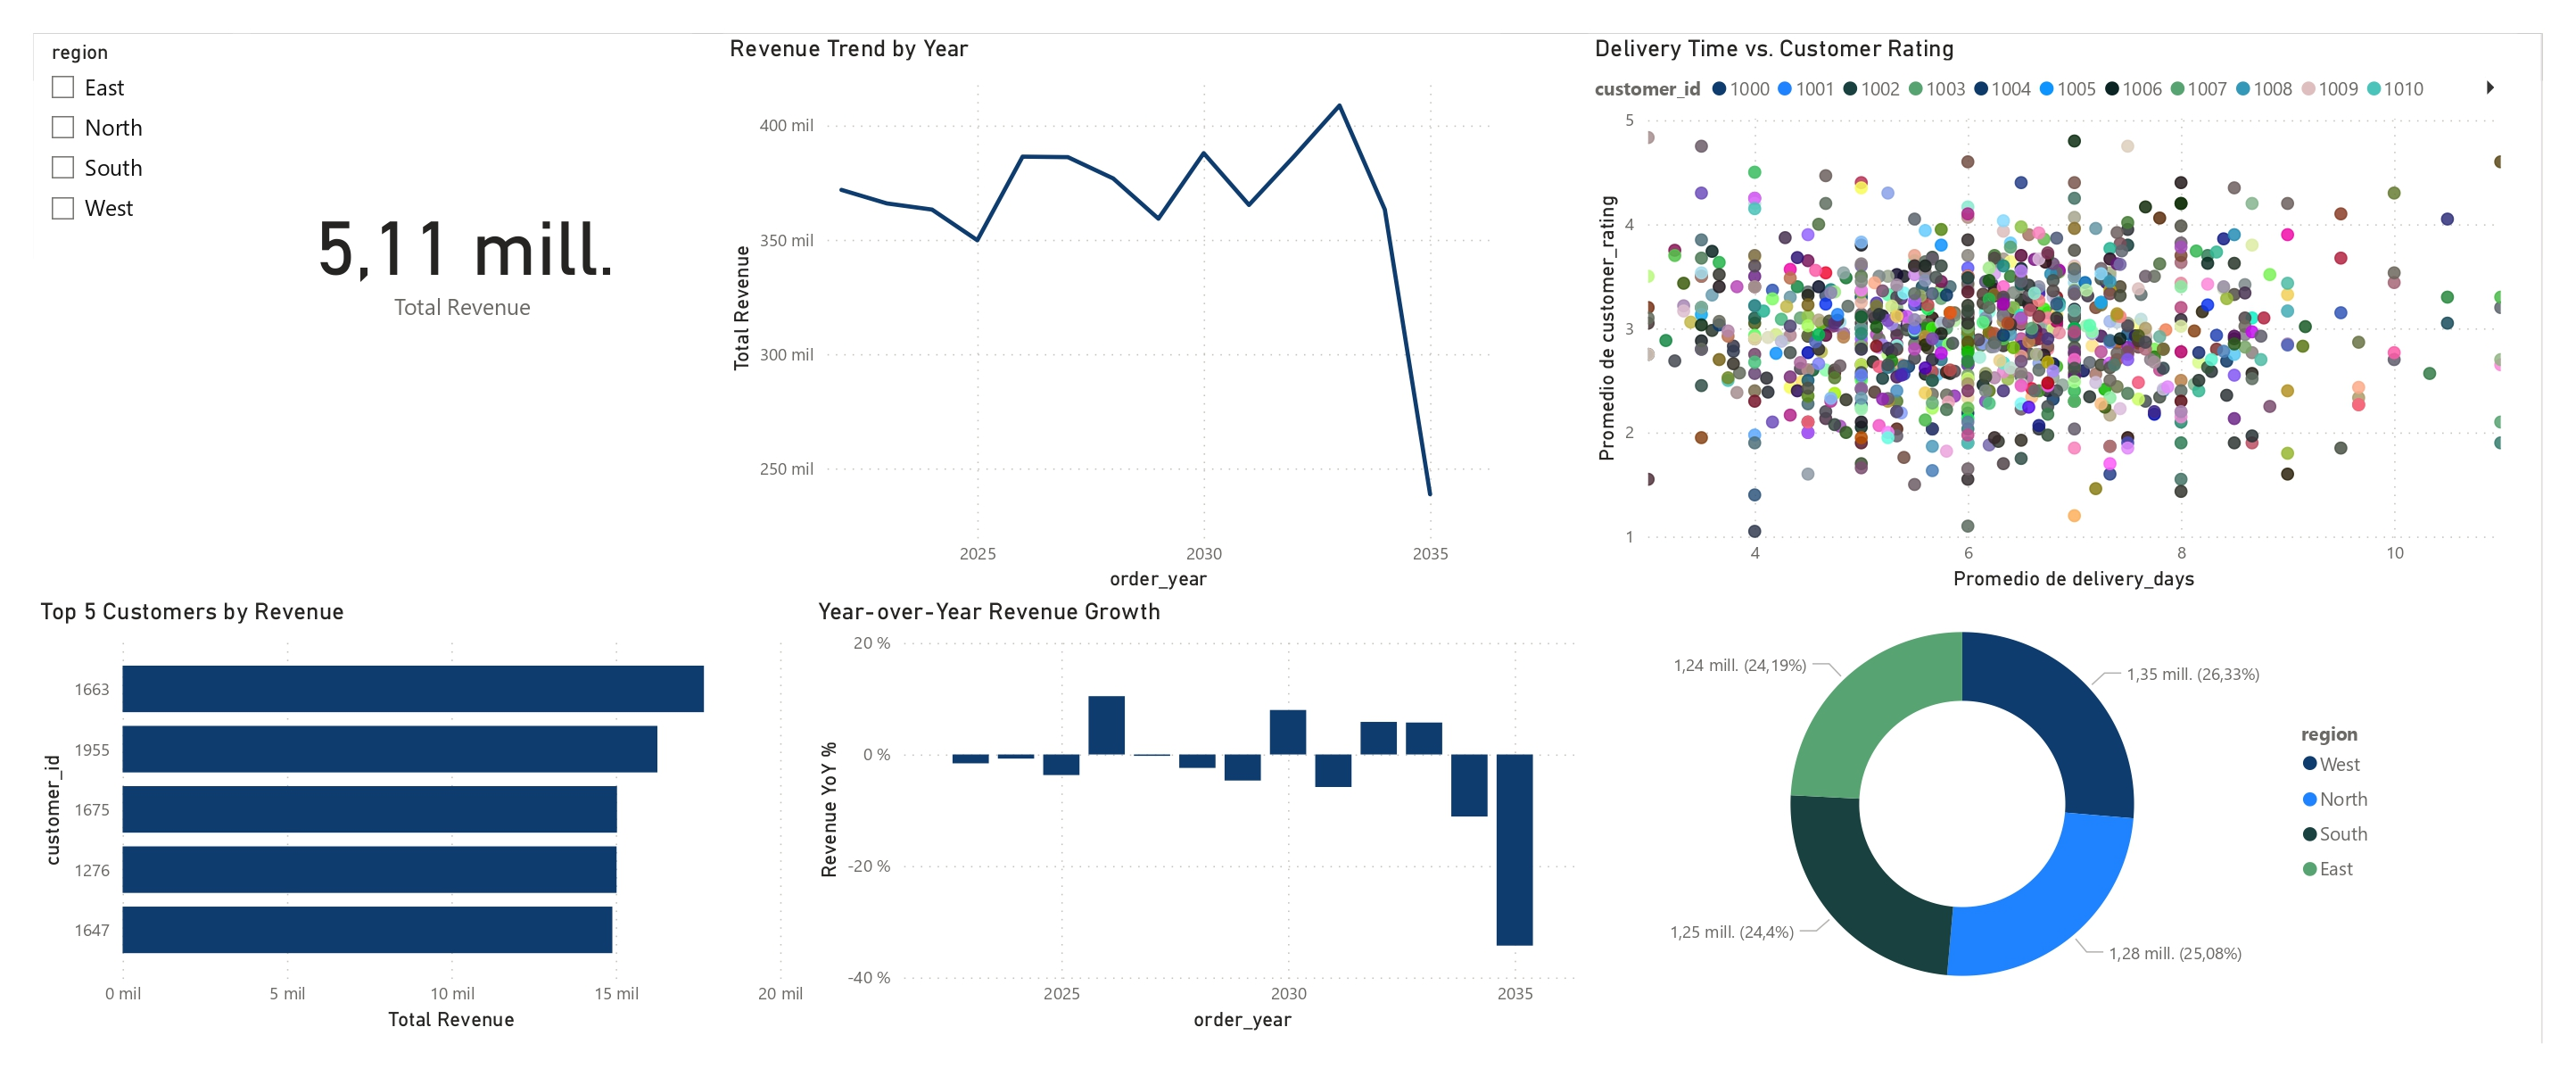

Layout of this report page (visuals, bound fields, positions):
{"tool":"powerbi","page":{"name":"Página 1","canvas":[1920,1080],"ordinal":0},"visuals":[{"type":"slicer","fields":{"Values":["public dim_region.region"]},"box":[10.2,0,132.8,280.1],"z":0},{"type":"cardVisual","fields":{"Data":["public fact_sales.Total Revenue"]},"box":[195.5,0,278.7,280.1],"z":1},{"type":"lineChart","title":"Revenue Trend by Year","fields":{"Category":["public dim_date.order_year"],"Y":["public fact_sales.Total Revenue"]},"box":[1186.1,0,674,280.1],"z":2},{"type":"barChart","title":"Top 5 Customers by Revenue","fields":{"Category":["public fact_sales.customer_id"],"Y":["public fact_sales.Total Revenue"]},"box":[0,280.1,630.3,393.9],"z":3},{"type":"columnChart","title":"Year-over-Year Revenue Growth","fields":{"Category":["public dim_date.order_year"],"Y":["public fact_sales.Revenue YoY %"]},"box":[503.3,0,663.8,280.1],"z":4},{"type":"donutChart","fields":{"Category":["public dim_region.region"],"Y":["public fact_sales.Total Revenue"]},"box":[0,674,659.5,405.6],"z":5},{"type":"cardVisual","fields":{"Data":["public fact_sales.Revenue Insight"]},"box":[659.5,674,906,405.6],"z":6},{"type":"cardVisual","fields":{"Data":["public fact_sales.Top Customer Insight"]},"box":[630.3,280.1,1050.5,393.9],"z":7}]}

Visuals, with their boxes on the page's 1920x1080 design canvas (x1, y1, x2, y2). These are canvas units, not pixel positions in the 2576x1077 screenshot, which may show the page scaled, cropped or inside an application window:
slicer - public dim_region.region: <box>10,0,143,280</box>
cardVisual - public fact_sales.Total Revenue: <box>196,0,474,280</box>
"Revenue Trend by Year" lineChart: <box>1186,0,1860,280</box>
"Top 5 Customers by Revenue" barChart: <box>0,280,630,674</box>
"Year-over-Year Revenue Growth" columnChart: <box>503,0,1167,280</box>
donutChart - public dim_region.region x public fact_sales.Total Revenue: <box>0,674,660,1080</box>
cardVisual - public fact_sales.Revenue Insight: <box>660,674,1566,1080</box>
cardVisual - public fact_sales.Top Customer Insight: <box>630,280,1681,674</box>
